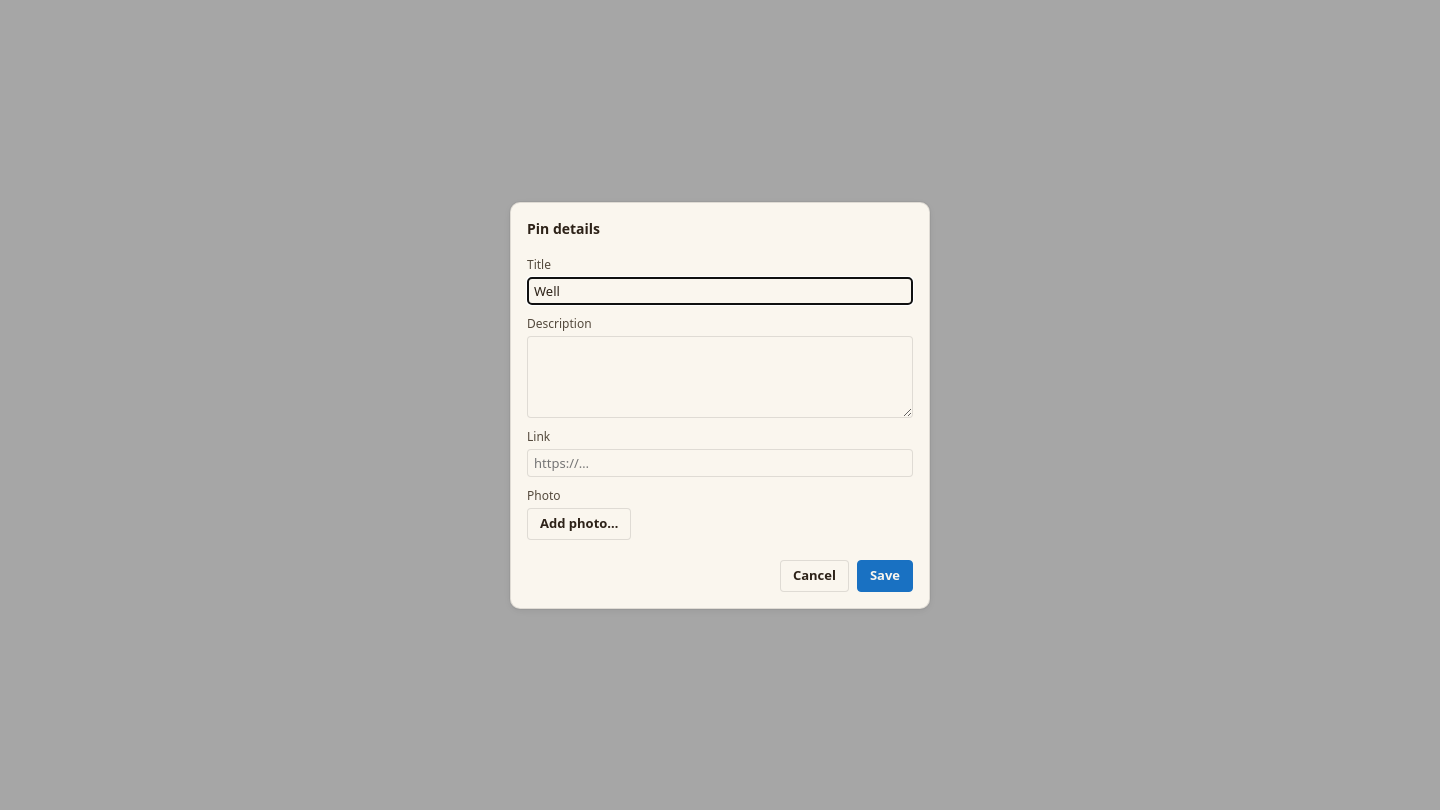
Test: PinDetailsDialog › refuses a link that is not http or https, says why, and saves nothing
This screenshot has width=1440, height=810.
Type "javascript:alert(1)" into the field with test id "pin-details-link" at (720,462), box 527,448 -> 913,476
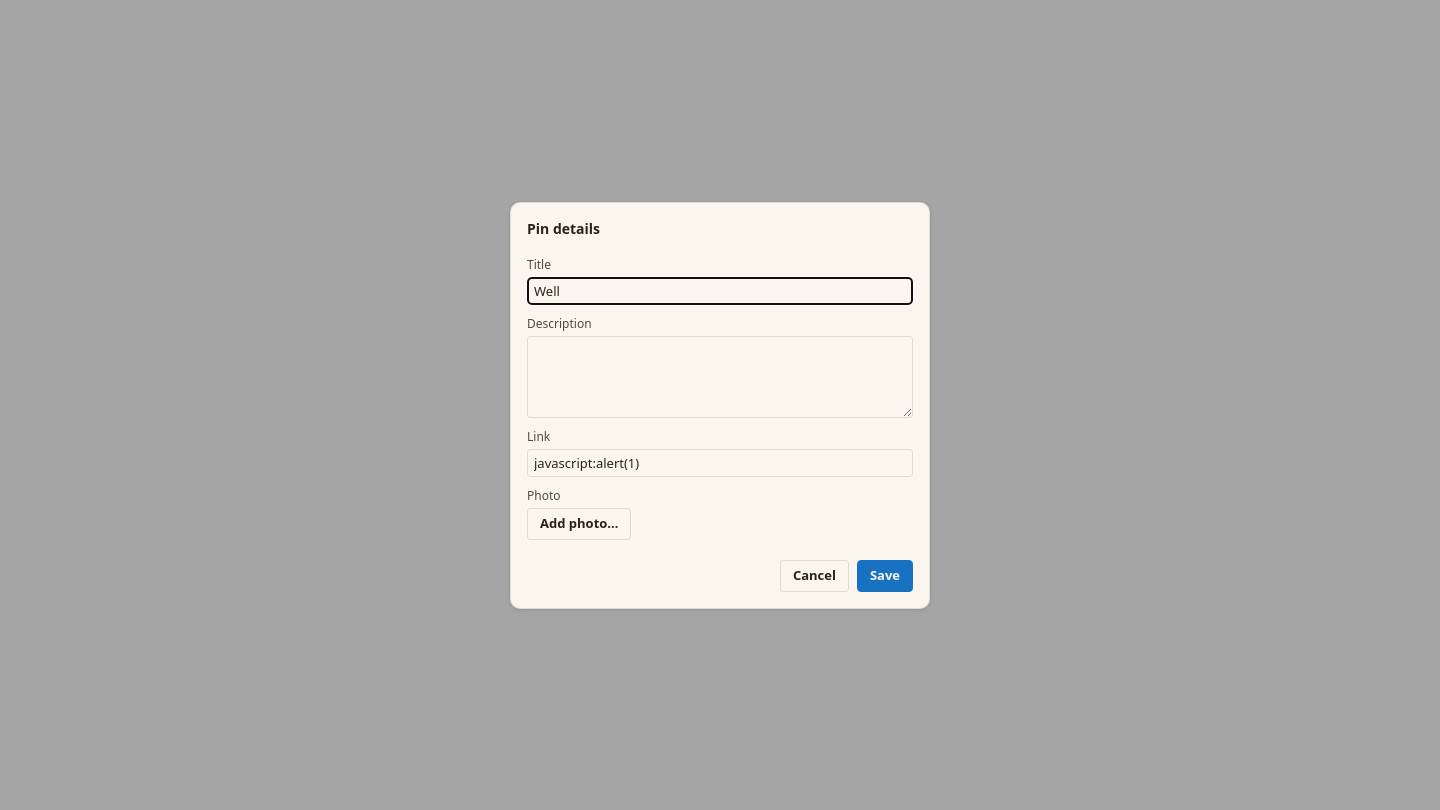
Click the button with test id "pin-details-save" at (885,576), box 857,560 -> 913,592
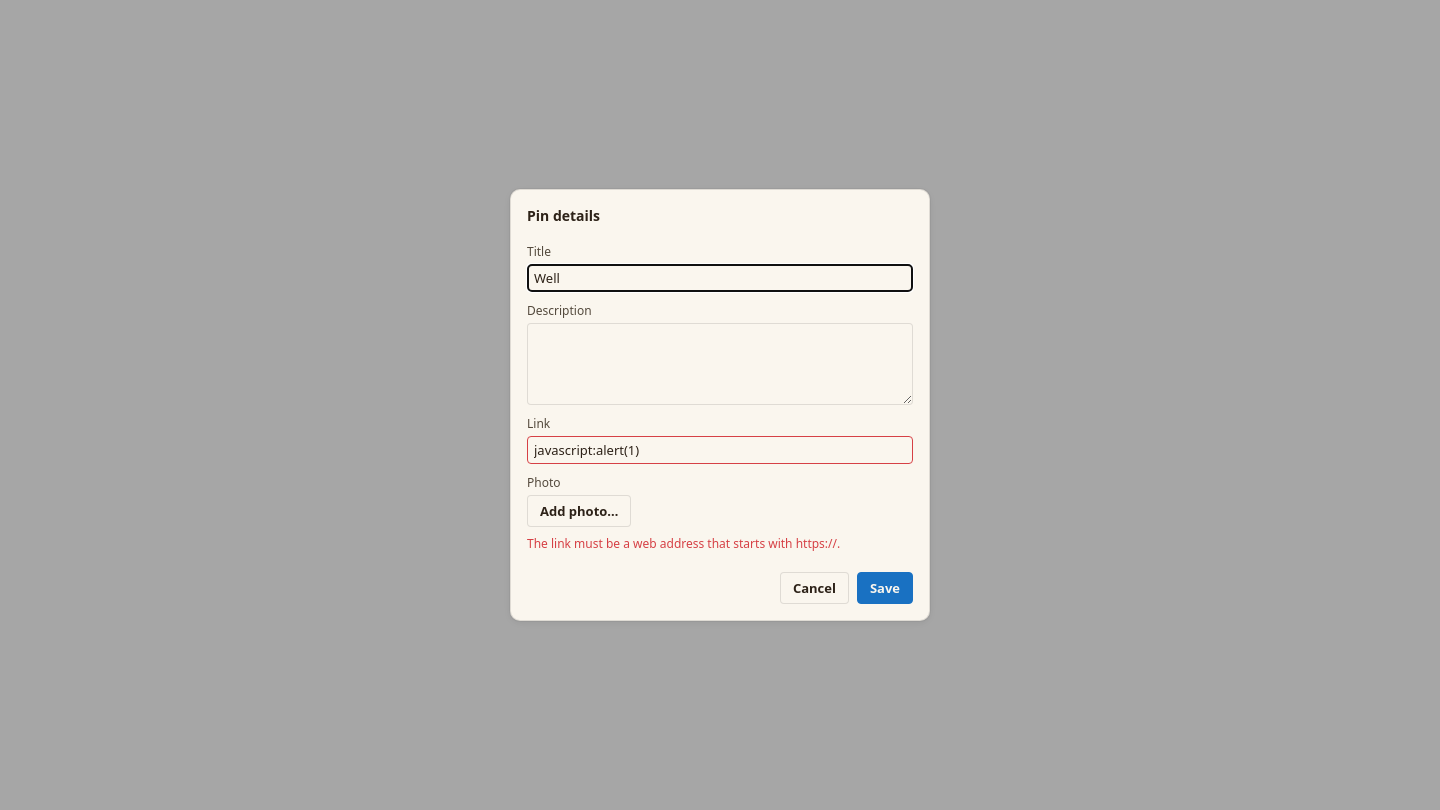
Now the message with test id "pin-details-error" shows "https", box 527,535 -> 840,552
